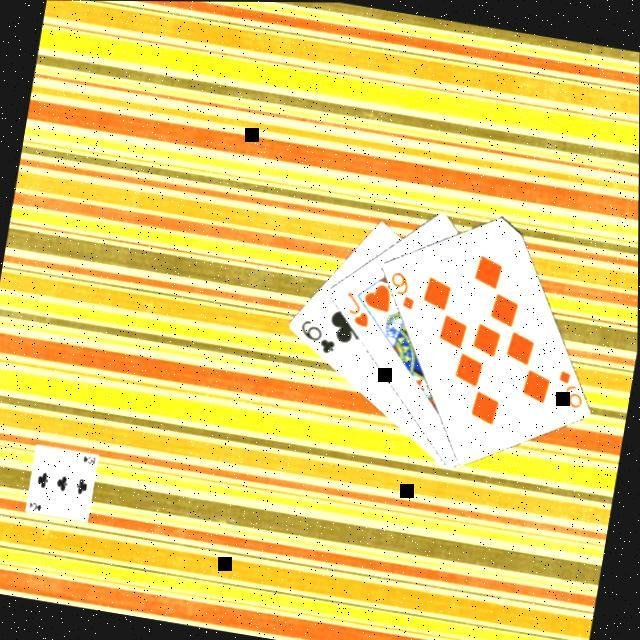6C: (293, 316, 340, 358)
9D: (382, 268, 420, 314), (550, 366, 588, 412)
JH: (337, 287, 375, 332)
